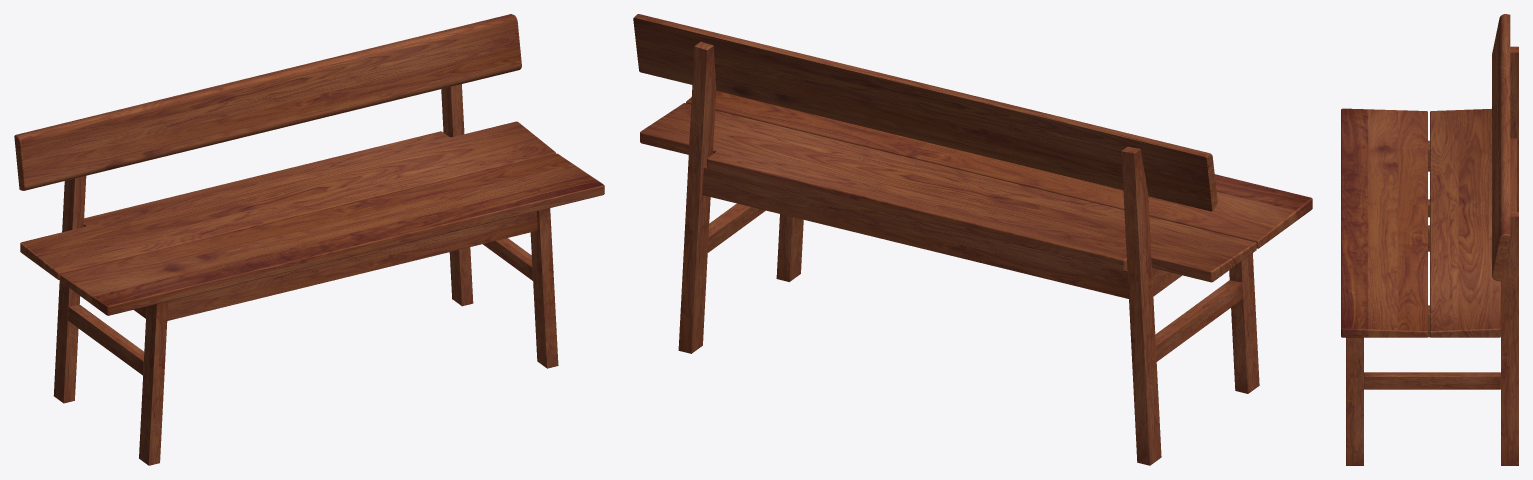
File: Bench3.fbx
The picture shows the model from 3 angles, left to right: view 1: azimuth 30°, elevation 25°; view 2: azimuth 150°, elevation 25°; view 3: azimuth 270°, elevation 25°; orthographic projection. The views are drawn at different scales.
Parts seen in each view (by area): view 1: 座板, 背板, 脚, 幕板; view 2: 座板, 背板, 脚, 幕板; view 3: 座板, 脚, 背板.
Part boxes in pixels (bbox=[...]): 座板: bbox=[20, 121, 604, 315]; 背板: bbox=[14, 14, 521, 190]; 脚: bbox=[53, 84, 558, 465]; 幕板: bbox=[133, 211, 537, 320]; 座板: bbox=[640, 91, 1312, 282]; 背板: bbox=[633, 14, 1217, 211]; 脚: bbox=[678, 41, 1259, 465]; 幕板: bbox=[702, 166, 1181, 298]; 座板: bbox=[1341, 108, 1516, 337]; 脚: bbox=[1346, 46, 1518, 465]; 背板: bbox=[1492, 14, 1510, 281].
Bounding box in the file's own units: 1300 × 442 × 689.
Materials: 2 (1 with a texture image).
